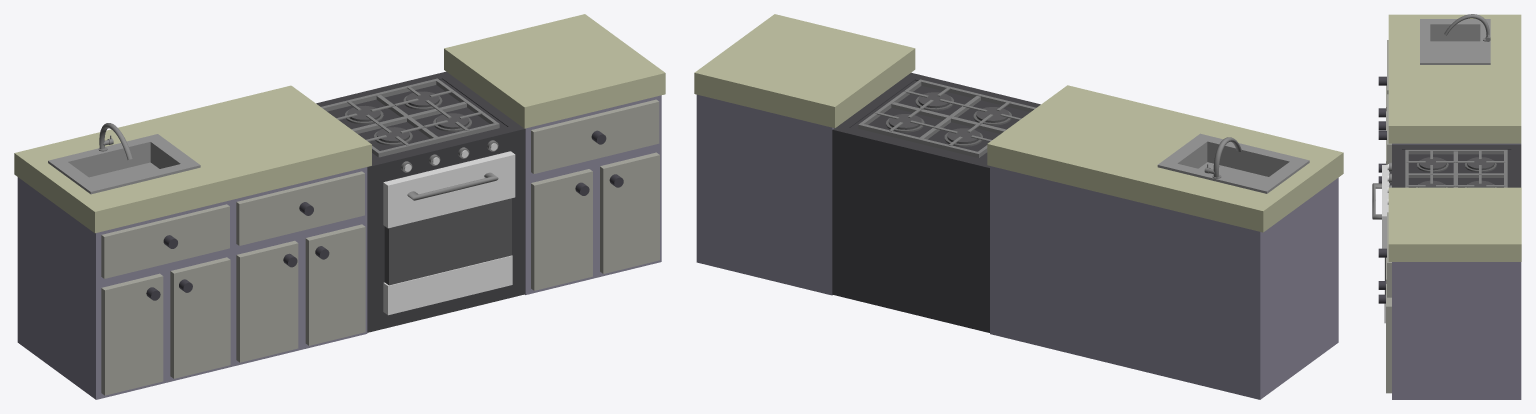
The model's file is colored kitchen part.fbx.
The picture shows the model from 3 angles, left to right: view 1: azimuth 30°, elevation 25°; view 2: azimuth 150°, elevation 25°; view 3: azimuth 270°, elevation 25°; orthographic projection. The views are drawn at different scales.
Visible parts, largest first — view 1: polySurface11, polySurface12, polySurface8, polySurface55, polySurface53, polySurface54, polySurface16, pCube2, polySurface26, polySurface17, polySurface24, polySurface56 (+2 smaller); view 2: polySurface11, polySurface53, polySurface12, polySurface55, polySurface8, polySurface54, pCube2, polySurface26, polySurface24, polySurface23; view 3: polySurface55, polySurface12, polySurface54, polySurface53, pCube2, polySurface26, polySurface24, polySurface56, polySurface16, polySurface8, polySurface10, polySurface23 (+2 smaller).
Boxes of the visible parts, x1,y1,x2,y2 form: polySurface11: [17, 177, 231, 399]; polySurface12: [14, 85, 371, 233]; polySurface8: [231, 167, 367, 366]; polySurface55: [525, 95, 661, 294]; polySurface53: [316, 71, 525, 332]; polySurface54: [444, 14, 665, 128]; polySurface16: [383, 151, 515, 228]; pCube2: [48, 134, 200, 194]; polySurface26: [321, 78, 499, 157]; polySurface17: [383, 255, 512, 315]; polySurface24: [347, 91, 469, 142]; polySurface56: [146, 130, 623, 300]; polySurface11: [1124, 177, 1338, 399]; polySurface53: [832, 72, 1040, 332]; polySurface12: [987, 85, 1343, 232]; polySurface55: [696, 94, 833, 295]; polySurface8: [990, 166, 1125, 366]; polySurface54: [694, 14, 915, 128]; pCube2: [1157, 133, 1309, 193]; polySurface26: [858, 79, 1036, 157]; polySurface24: [888, 92, 1009, 143]; polySurface23: [886, 96, 1012, 146]; polySurface55: [1386, 212, 1521, 399]; polySurface12: [1388, 14, 1521, 143]; polySurface54: [1388, 187, 1521, 261]; polySurface53: [1385, 144, 1521, 294]; pCube2: [1420, 19, 1490, 64]; polySurface26: [1405, 149, 1507, 187]; polySurface24: [1418, 157, 1494, 187]; polySurface56: [1378, 76, 1386, 303]; polySurface16: [1382, 165, 1389, 248]; polySurface8: [1386, 94, 1521, 164]; polySurface10: [1444, 14, 1490, 41]; polySurface23: [1416, 160, 1496, 187].
Bounding box in the file's own units: 3.24 × 1.22 × 0.8906.
